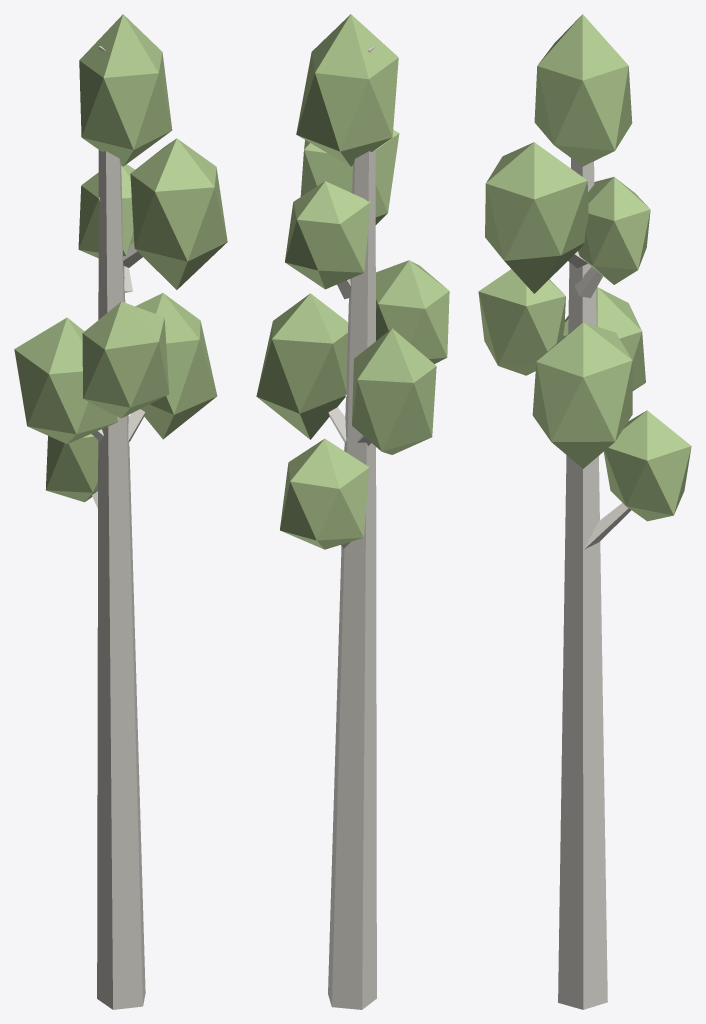
File: arv_betula_6_sem_textura.glb
3 renders of one model, left to right at view 1: azimuth 30°, elevation 25°; view 2: azimuth 150°, elevation 25°; view 3: azimuth 270°, elevation 25°, orthographic.
Parts seen in each view (by area): view 1: arv_betula_6; view 2: arv_betula_6; view 3: arv_betula_6.
Part boxes in pixels (x1,y1,x2,y2): arv_betula_6: (14, 14, 227, 1009); arv_betula_6: (256, 14, 449, 1009); arv_betula_6: (478, 14, 691, 1009).
Size of the model in its own units: 0.4785 by 2.7 by 0.5289.
